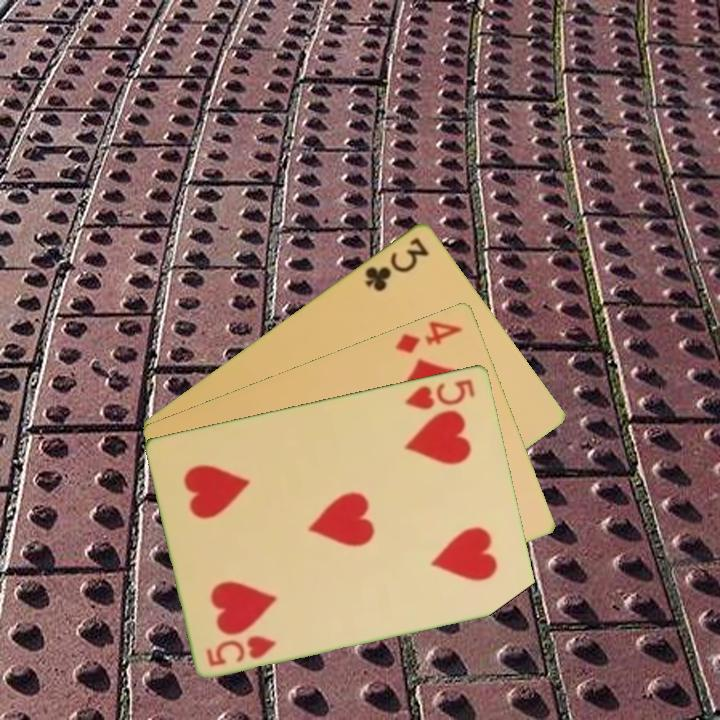3c: (361, 233, 432, 294)
4d: (392, 316, 466, 356)
5h: (203, 631, 279, 669), (402, 375, 478, 412)
